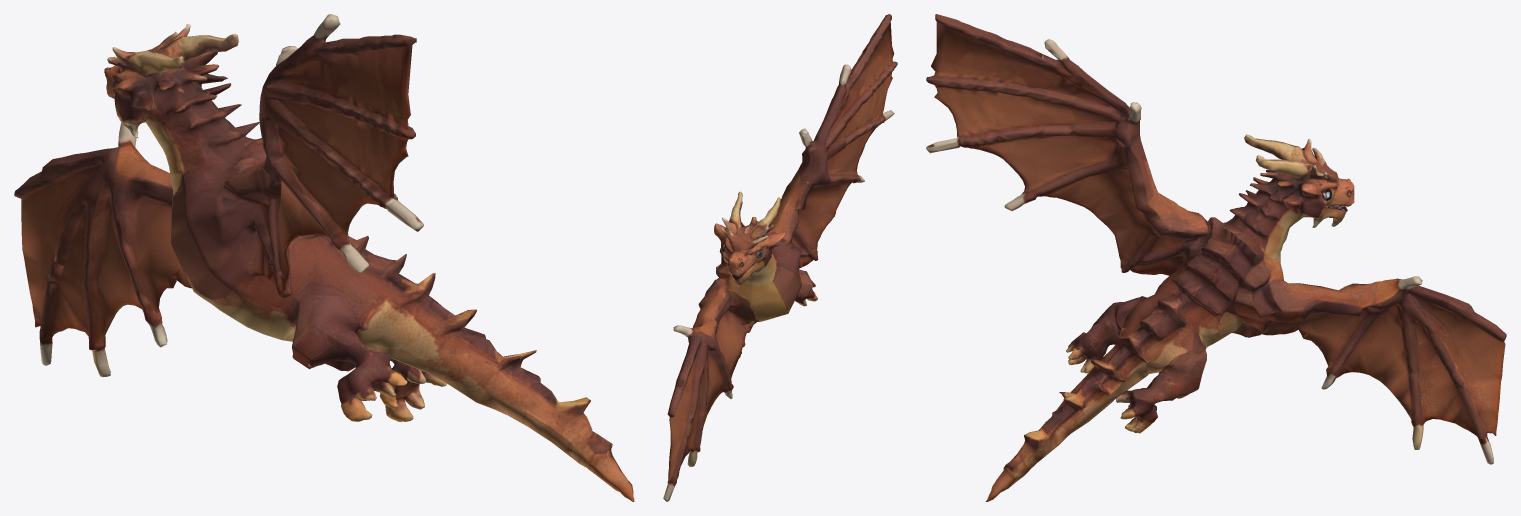
The model's file is 5feca8a4-bd39-4375-9ec2-849c497f3633-pbr_model.glb.
The picture shows the model from 3 angles, left to right: view 1: azimuth 30°, elevation 25°; view 2: azimuth 150°, elevation 25°; view 3: azimuth 270°, elevation 25°; orthographic projection. The views are drawn at different scales.
Visible parts, largest first — view 1: tripo_node_5feca8a4-bd39-4375-9ec2-849c497f3633; view 2: tripo_node_5feca8a4-bd39-4375-9ec2-849c497f3633; view 3: tripo_node_5feca8a4-bd39-4375-9ec2-849c497f3633.
Boxes of the visible parts, <box> form: tripo_node_5feca8a4-bd39-4375-9ec2-849c497f3633: <box>14,14,634,501</box>; tripo_node_5feca8a4-bd39-4375-9ec2-849c497f3633: <box>663,14,897,501</box>; tripo_node_5feca8a4-bd39-4375-9ec2-849c497f3633: <box>926,14,1506,501</box>.
Size of the model in its own units: 0.4462 by 0.8415 by 1.
Materials: 1 (1 with a texture image).
